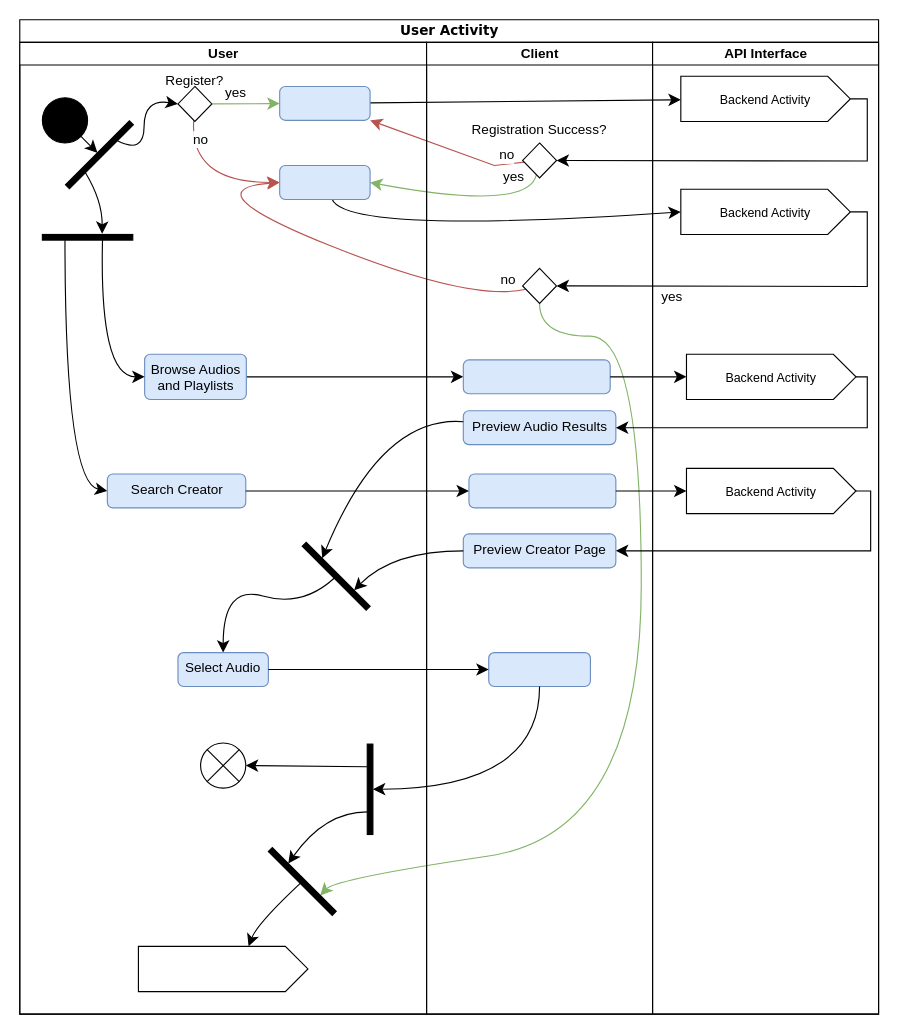
Image size: 902x1034. Some labels were removed from this diagram. Each missing label, with the centre of its shape:
"Fetch Search Results" goes at point (536, 376).
"Fetch User Results" goes at point (542, 490).
"Play Audio" goes at point (539, 668).
"Register" goes at point (324, 102).
"Register User Activity" goes at point (222, 968).
"Sign in" goes at point (324, 181).
"Signin Success?" goes at point (539, 285).
